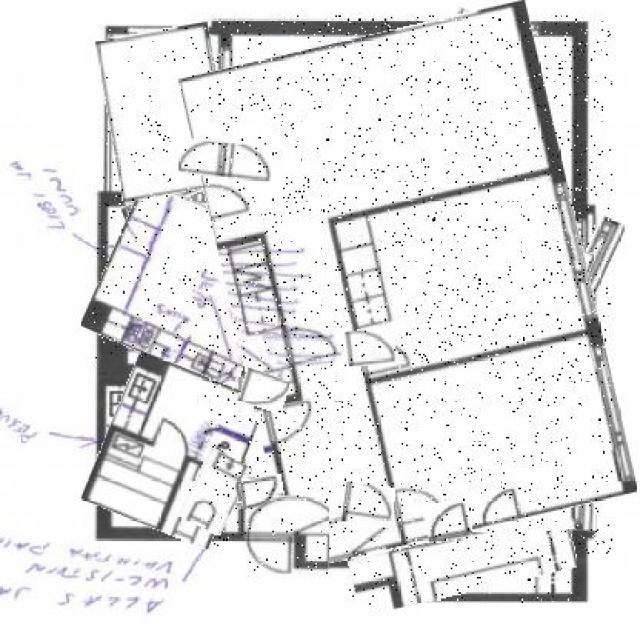door: (205, 15, 612, 554), (340, 189, 585, 383), (350, 370, 576, 536), (92, 194, 283, 378), (92, 360, 254, 540), (103, 28, 229, 197), (350, 523, 576, 605), (185, 451, 246, 532)
window: (246, 495, 329, 574), (178, 142, 272, 178), (343, 483, 394, 526), (423, 500, 471, 542), (240, 371, 288, 411), (346, 328, 394, 366), (237, 475, 283, 508)
zone: (554, 216, 611, 362), (571, 377, 600, 531), (120, 183, 208, 212), (456, 16, 536, 46)
